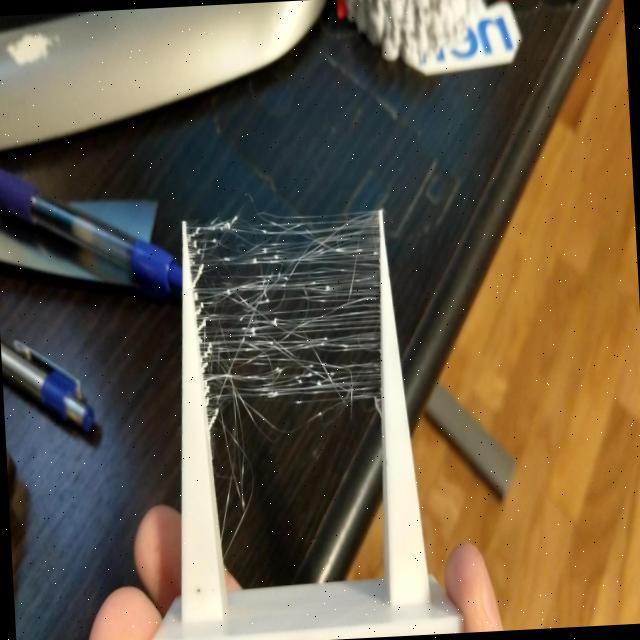stringing: (186, 205, 380, 577)
